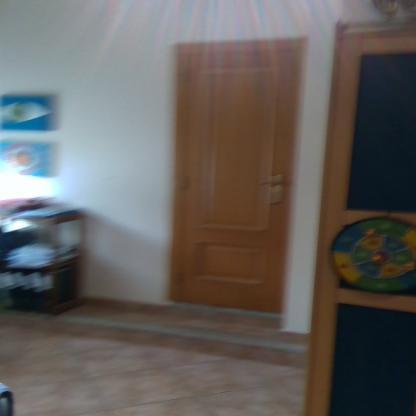door: (185, 53, 285, 293)
hinged: (184, 65, 192, 84), (178, 175, 186, 194), (174, 269, 182, 286)
lever: (255, 180, 280, 189)
